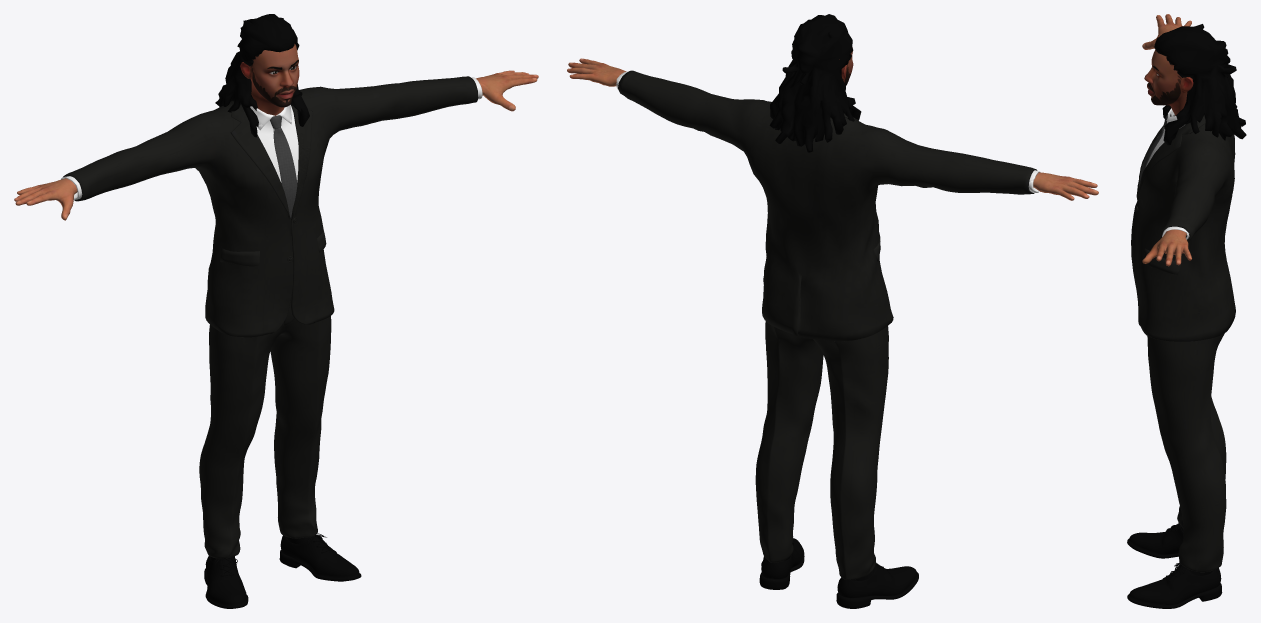
File: mentor with business suit.glb
3 renders of one model, left to right at view 1: azimuth 30°, elevation 25°; view 2: azimuth 150°, elevation 25°; view 3: azimuth 270°, elevation 25°, orthographic. The views are drawn at different scales.
Visible parts, largest first — view 1: Object_17.002, Hair.003, Head.003, Object_7.001; view 2: Object_17.002, Hair.003, Object_7.001; view 3: Object_17.002, Hair.003, Head.003, Object_7.001.
Part boxes in pixels (left/top/right/bottom): Object_17.002: left=61, top=76, right=482, bottom=608; Hair.003: left=215, top=14, right=309, bottom=137; Head.003: left=240, top=44, right=299, bottom=115; Object_7.001: left=14, top=70, right=538, bottom=220; Object_17.002: left=616, top=70, right=1040, bottom=608; Hair.003: left=769, top=14, right=861, bottom=152; Object_7.001: left=567, top=58, right=1098, bottom=200; Object_17.002: left=1127, top=108, right=1235, bottom=608; Hair.003: left=1154, top=24, right=1246, bottom=145; Head.003: left=1144, top=49, right=1193, bottom=115; Object_7.001: left=1142, top=14, right=1191, bottom=266.
Size of the model in its own units: 1.87 by 1.92 by 0.3782.
6 materials, 6 textured.
